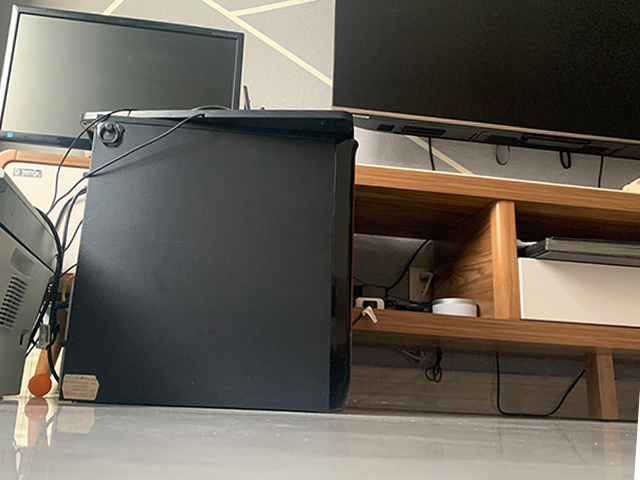cabinet: (350, 162, 640, 421)
wire: (38, 139, 86, 372), (495, 352, 588, 418), (360, 240, 436, 314), (402, 342, 453, 385)
